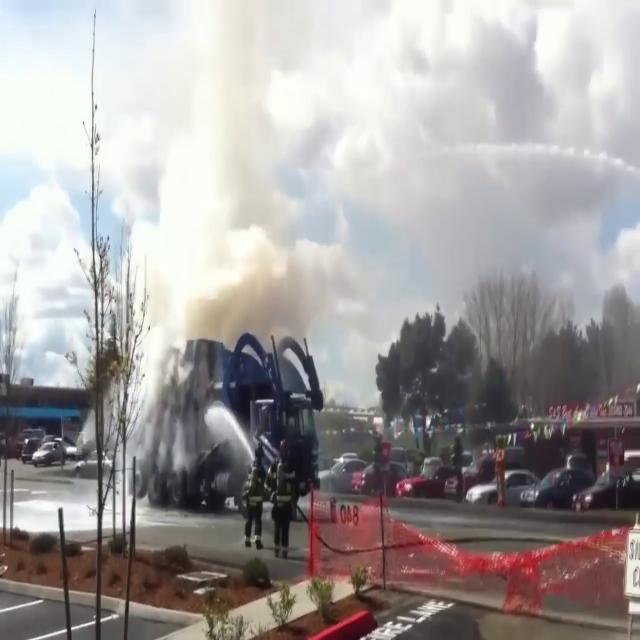Smoke: (59, 4, 338, 472)
